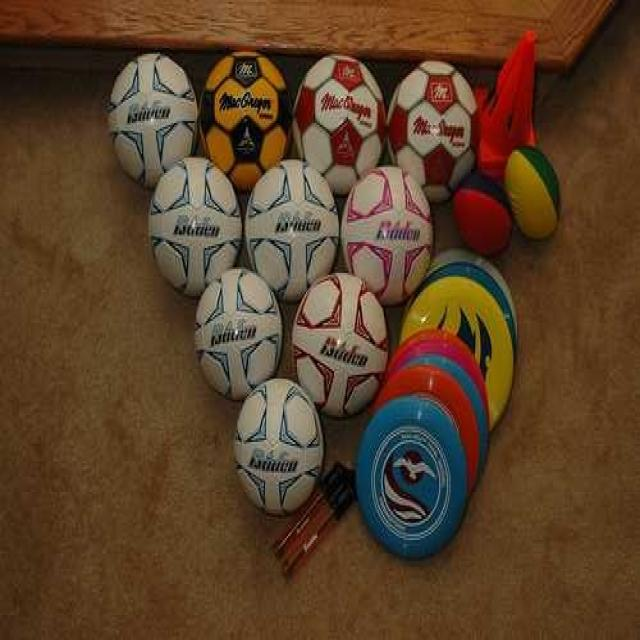ball: (292, 272, 390, 418), (148, 159, 245, 298), (245, 158, 340, 299), (293, 50, 387, 192), (387, 60, 479, 201), (341, 166, 435, 303), (199, 51, 291, 186), (235, 377, 324, 516), (109, 53, 198, 187), (197, 266, 282, 405)
